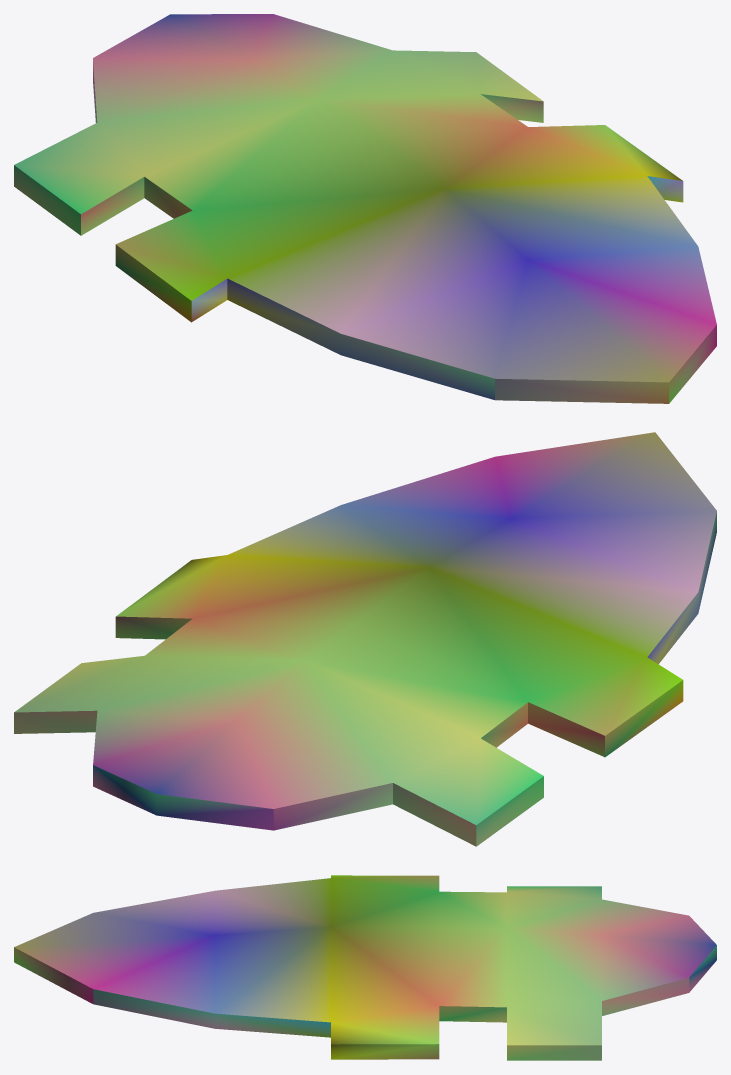
The model's file is TikiShield_A.glb.
3 views of the same model, one above another, from view 1: azimuth 30°, elevation 25°; view 2: azimuth 150°, elevation 25°; view 3: azimuth 270°, elevation 25° (orthographic). The views are drawn at different scales.
Visible parts, largest first — view 1: MeshNode_0; view 2: MeshNode_0; view 3: MeshNode_0.
Boxes of the visible parts, x1,y1,x2,y2 form: MeshNode_0: [14, 14, 716, 403]; MeshNode_0: [14, 432, 716, 846]; MeshNode_0: [14, 875, 716, 1060].
Bounding box in the file's own units: 2.69 × 0.4208 × 4.73.
